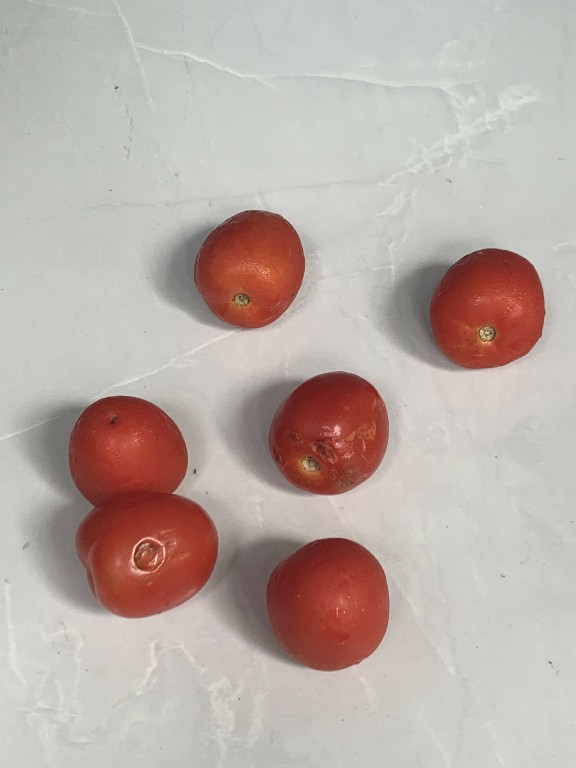NG: (71, 496, 230, 627), (264, 364, 403, 499)
OK: (262, 526, 395, 681), (426, 239, 547, 386), (184, 200, 316, 334), (68, 389, 195, 508)
